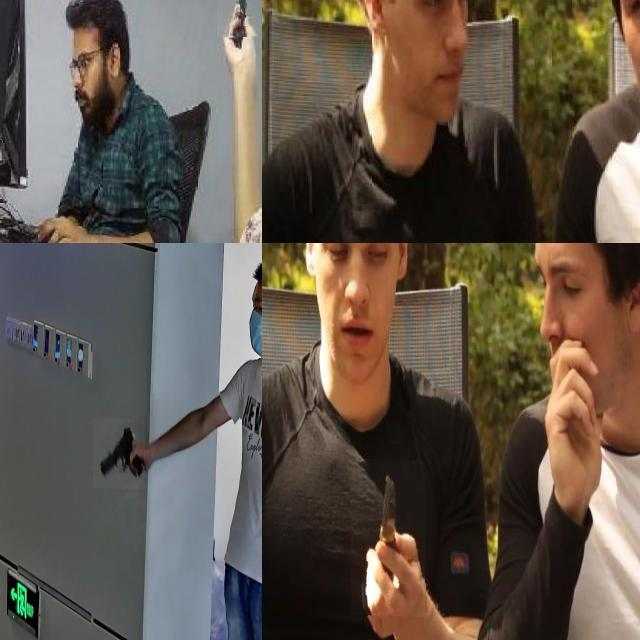-: (351, 458, 425, 616), (217, 0, 261, 52)
gun-knife-thesis - v11 Yolov5 augmented: (93, 416, 145, 488)
